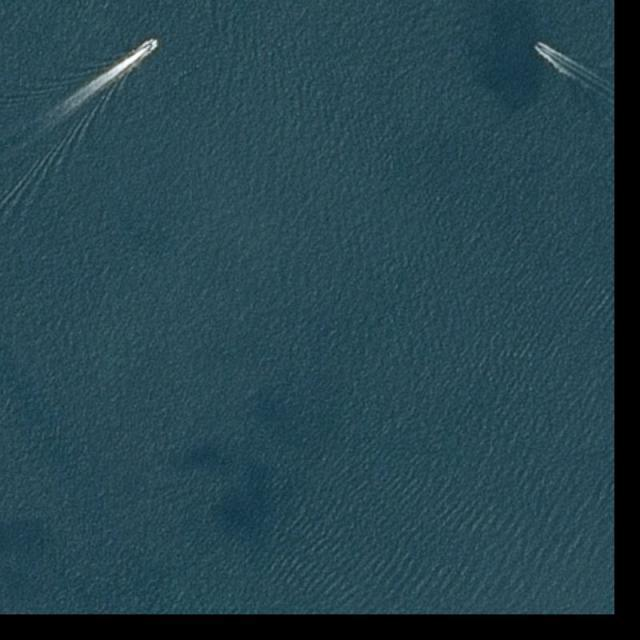ship: (145, 38, 161, 52), (534, 42, 545, 51)
